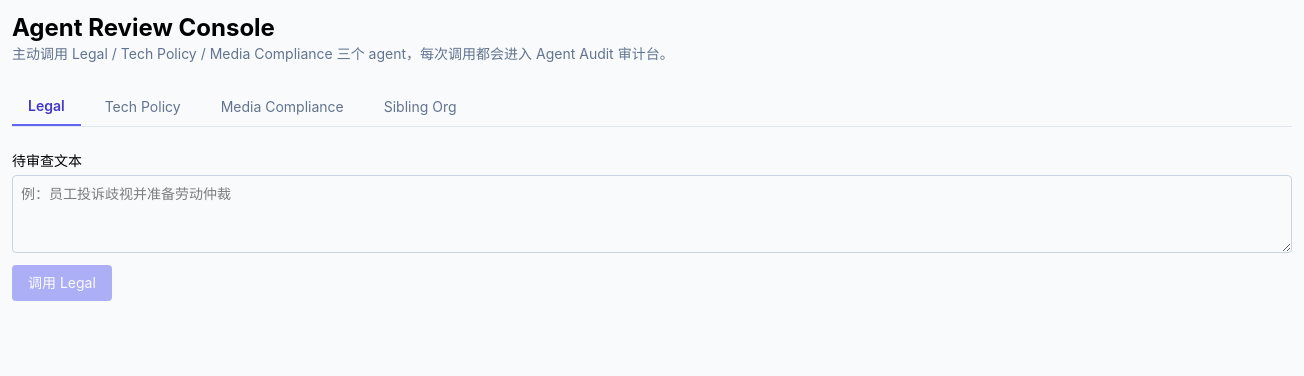
Test case: V32 Agent Review Console › clears stale result when switching tabs
Step 1. Type "a" into the text box with test id "legal-text" → (652, 214), box x1=12 y1=175 x2=1292 y2=253
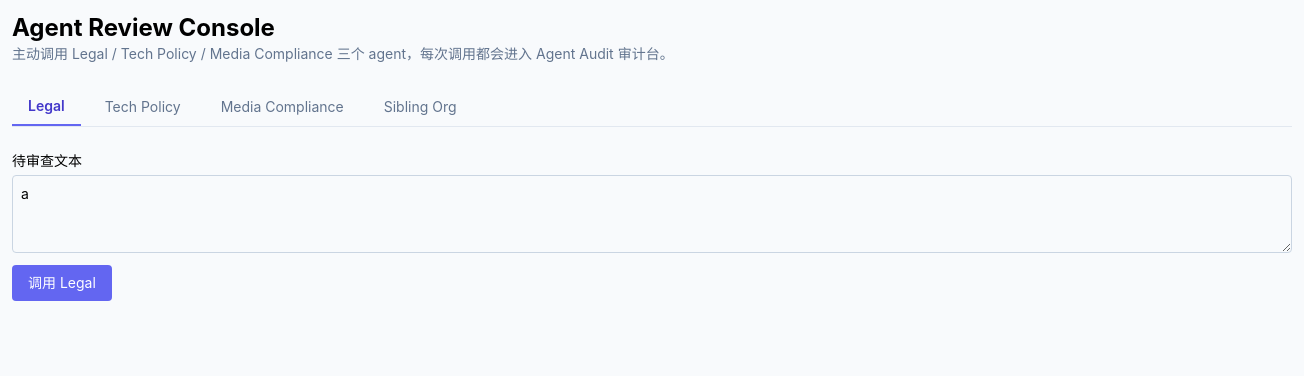
Step 2. Click the button with test id "legal-submit" → (62, 283), box x1=12 y1=265 x2=112 y2=301
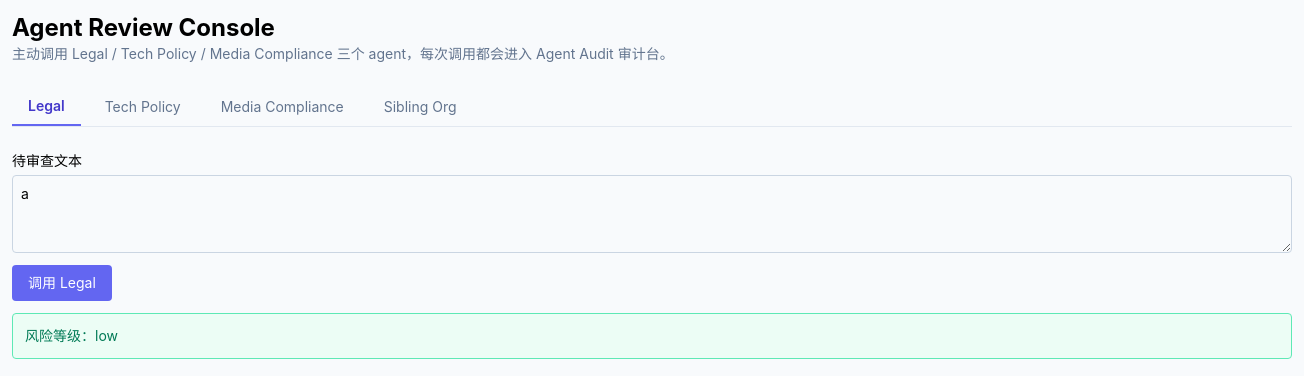
Check: the text "风险等级：low" is shown, box x1=12 y1=313 x2=1292 y2=359
Step 3. Click the button with test id "agent-tab-tech-policy" → (143, 107), box x1=89 y1=88 x2=197 y2=126
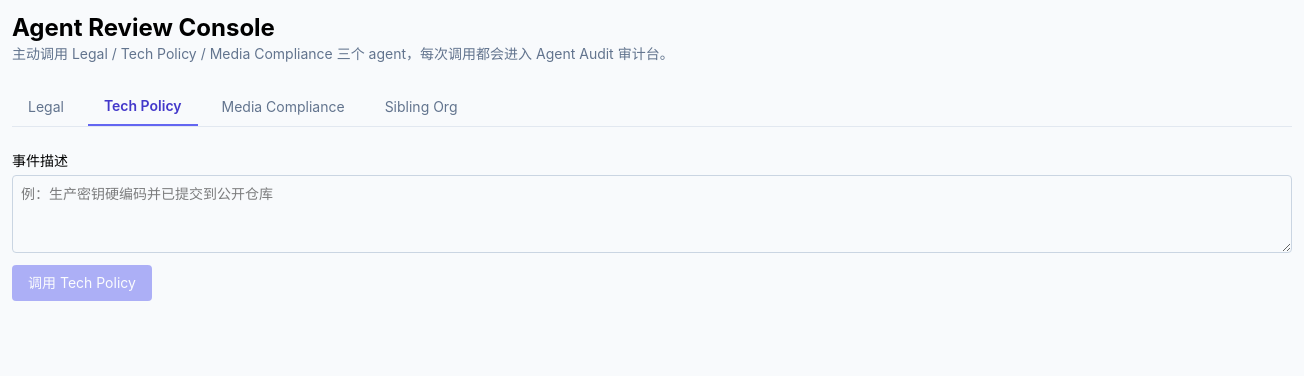
Check: the text with test id "legal-result" is gone
